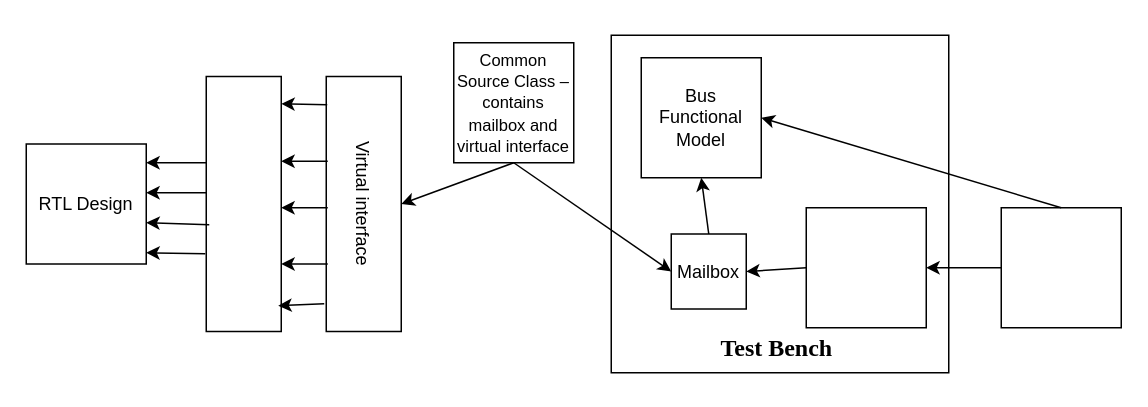
Image size: 1148x407. Some labels were removed from this diagram. The shapes that lost their labels are listed below. From the top down, each one's box as (x1, y1, x2, y2) in pixels, then its label:
(205, 75, 281, 332): Physical interface
(805, 206, 926, 328): Generator block
(1000, 206, 1121, 328): Test Class – contains all signals for random value generation
